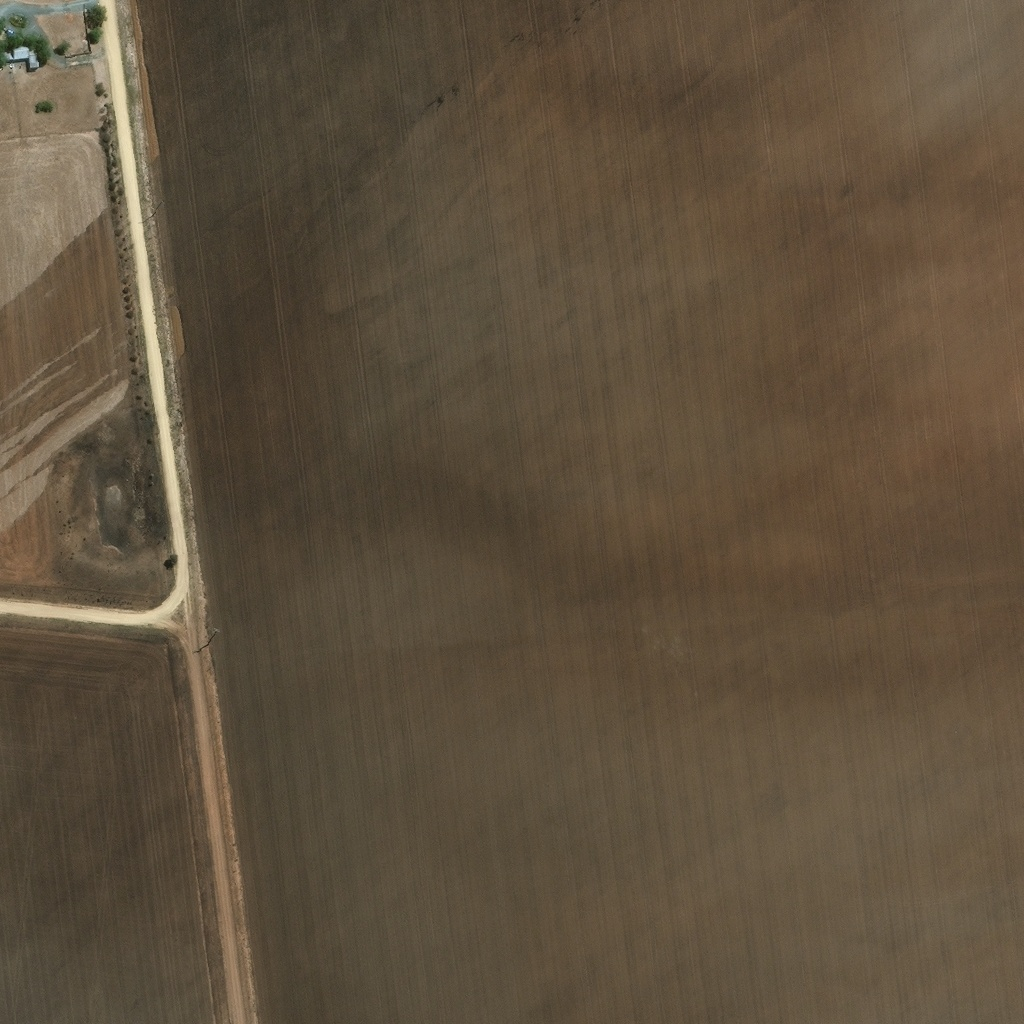0 no-damage: (13, 44, 38, 68)
